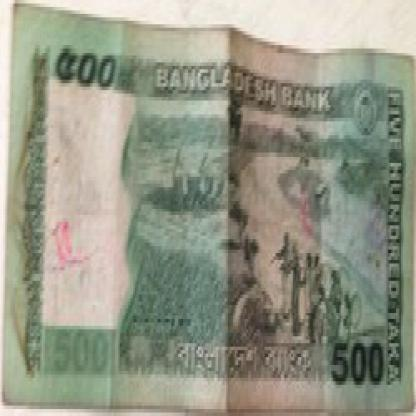500 taka: (46, 45, 134, 104), (323, 322, 391, 388)
